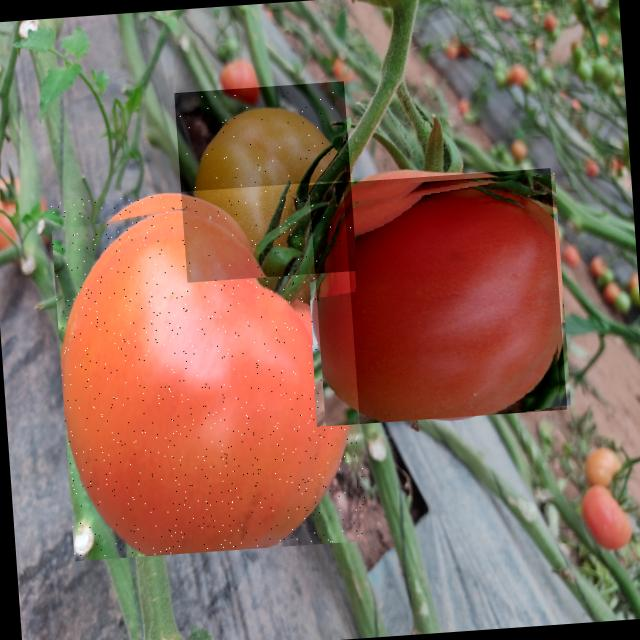Ripe Tomato: (49, 180, 367, 561), (308, 168, 566, 426)
Unripe Tomato: (174, 81, 356, 282)
